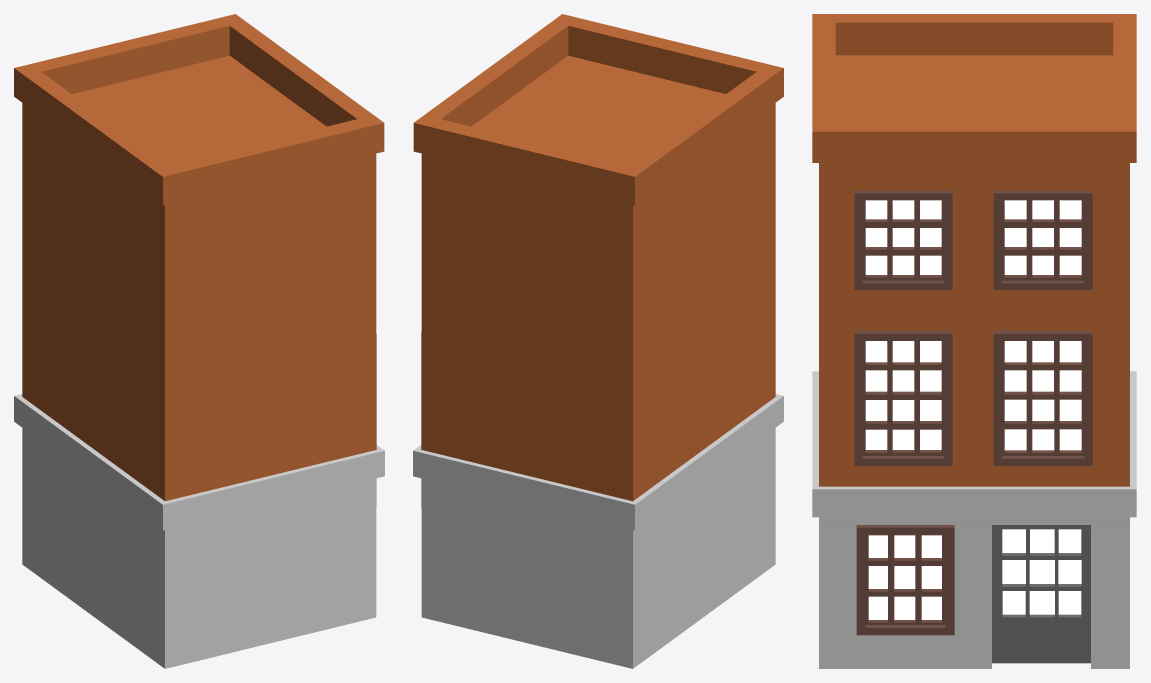
File: House 4.1.fbx
3 renders of one model, left to right at view 1: azimuth 30°, elevation 25°; view 2: azimuth 150°, elevation 25°; view 3: azimuth 270°, elevation 25°, orthographic. The views are drawn at different scales.
Parts seen in each view (by area): view 1: House 4.002; view 2: House 4.002; view 3: House 4.002.
Boxes of the visible parts, box(x1,y1,x2,y2) form: House 4.002: box(14, 14, 384, 668); House 4.002: box(413, 14, 783, 668); House 4.002: box(812, 14, 1136, 668).
Bounding box in the file's own units: 857 × 1829 × 995.
